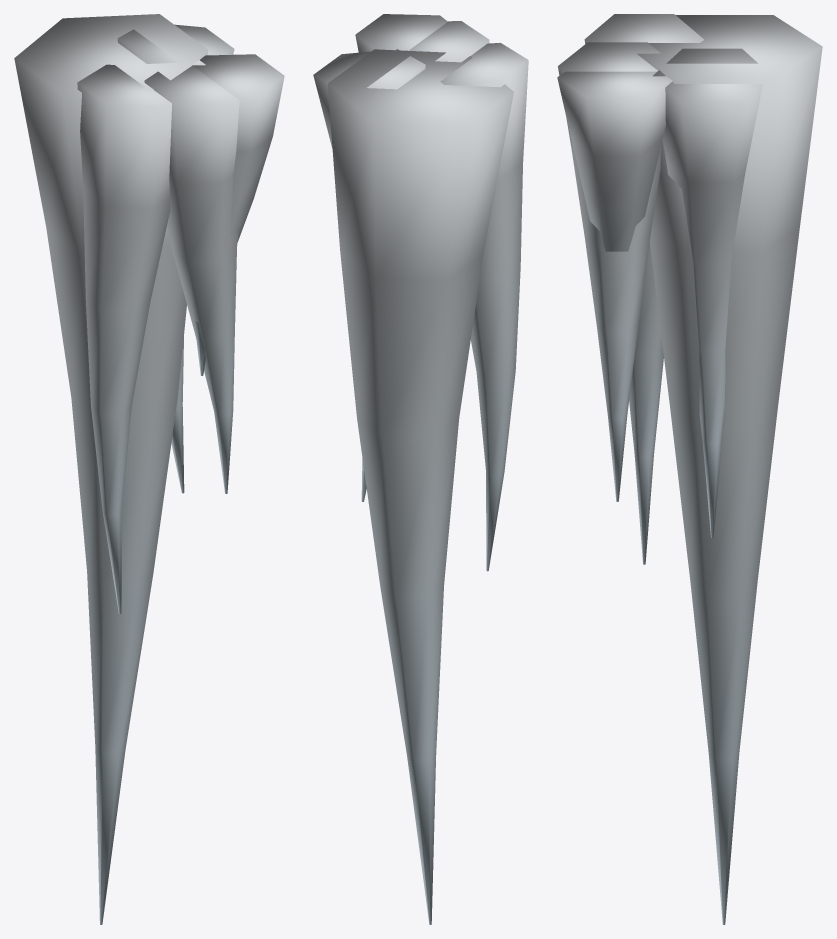
File: icicle.glb
3 renders of one model, left to right at view 1: azimuth 30°, elevation 25°; view 2: azimuth 150°, elevation 25°; view 3: azimuth 270°, elevation 25°, orthographic. The views are drawn at different scales.
Parts seen in each view (by area): view 1: icicle; view 2: icicle; view 3: icicle.
Part boxes in pixels (bbox=[...]): icicle: bbox=[14, 14, 284, 924]; icicle: bbox=[313, 14, 528, 924]; icicle: bbox=[557, 14, 822, 924].
Size of the model in its own units: 0.1617 by 0.7546 by 0.2044.
